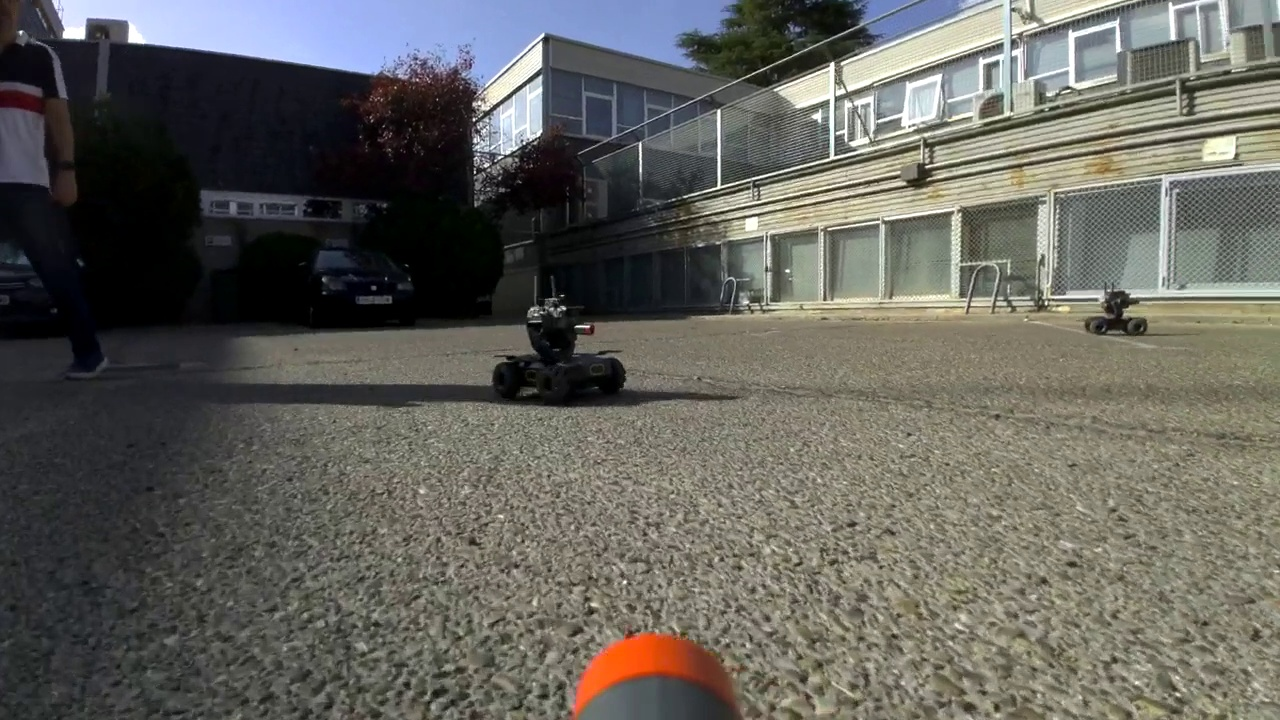robot: (489, 269, 630, 401), (1085, 281, 1149, 337)
